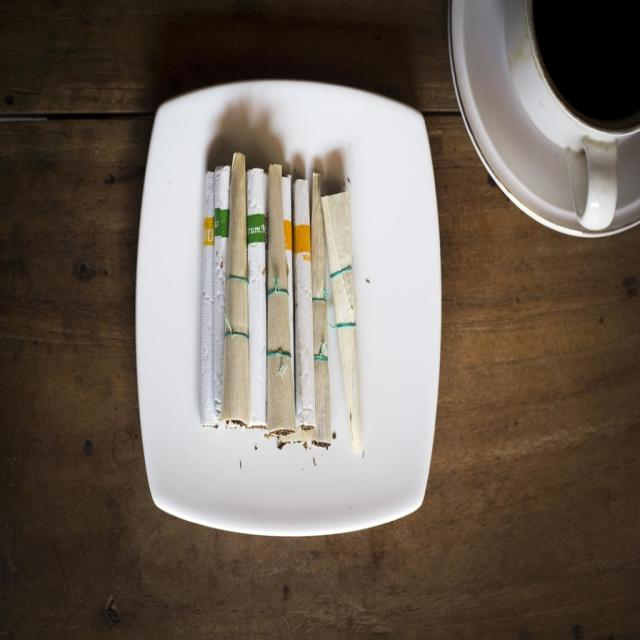non-organic waste: (107, 58, 442, 575)
